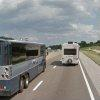Bus: (0, 30, 50, 96)
